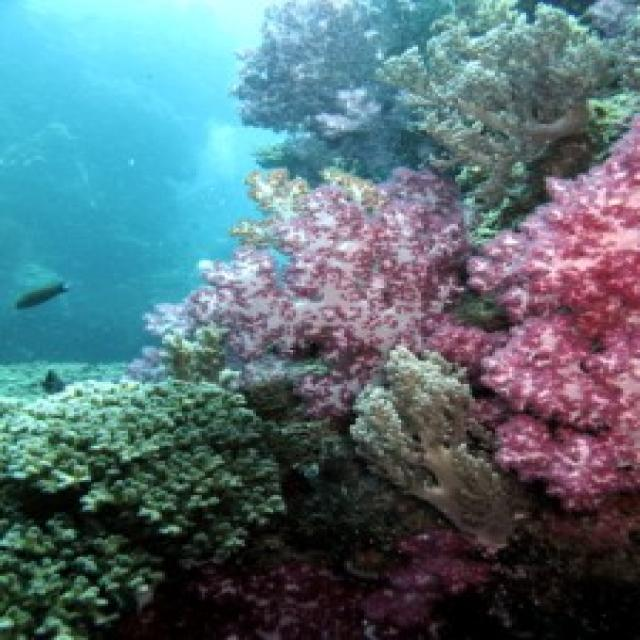Bleached: (1, 381, 283, 639), (376, 3, 627, 212), (351, 349, 522, 547)
Healthy: (149, 172, 467, 415), (470, 120, 638, 509), (120, 532, 516, 639), (234, 3, 428, 180), (590, 588, 638, 639)
